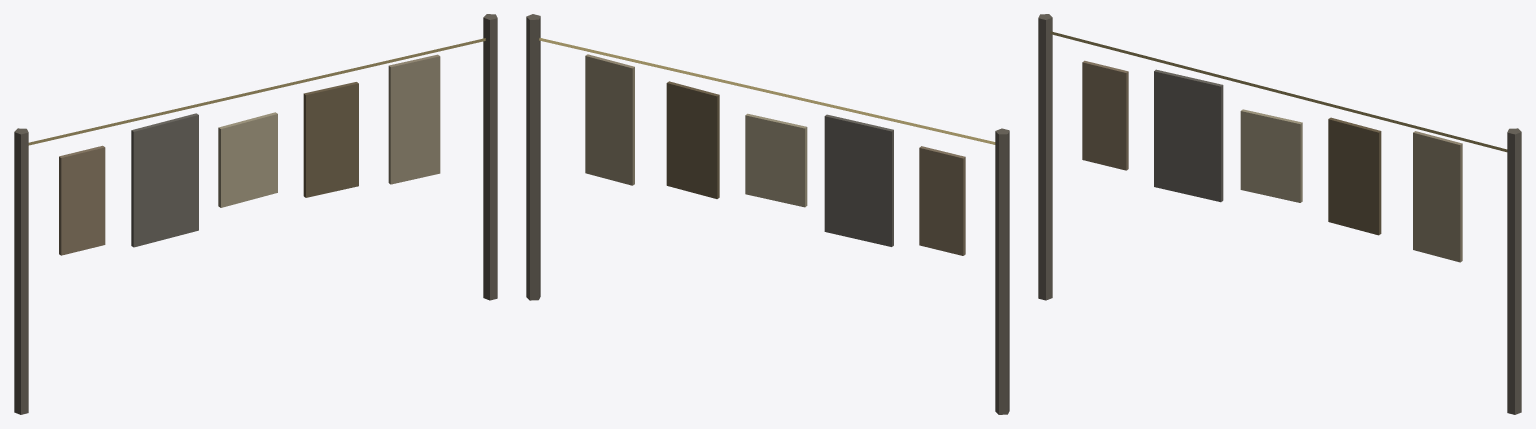
Rendered from a3s_laundry_line.glb.
The picture shows the model from 3 angles, left to right: view 1: azimuth 30°, elevation 25°; view 2: azimuth 150°, elevation 25°; view 3: azimuth 330°, elevation 25°; orthographic projection.
Visible parts, largest first — view 1: a3s_laundry_line; view 2: a3s_laundry_line; view 3: a3s_laundry_line.
Part boxes in pixels (x1=…): a3s_laundry_line: x1=14, y1=14, x2=497, y2=414; a3s_laundry_line: x1=526, y1=14, x2=1009, y2=414; a3s_laundry_line: x1=1038, y1=14, x2=1521, y2=414.
Bounding box in the file's own units: 3.6 × 2 × 0.0905.
